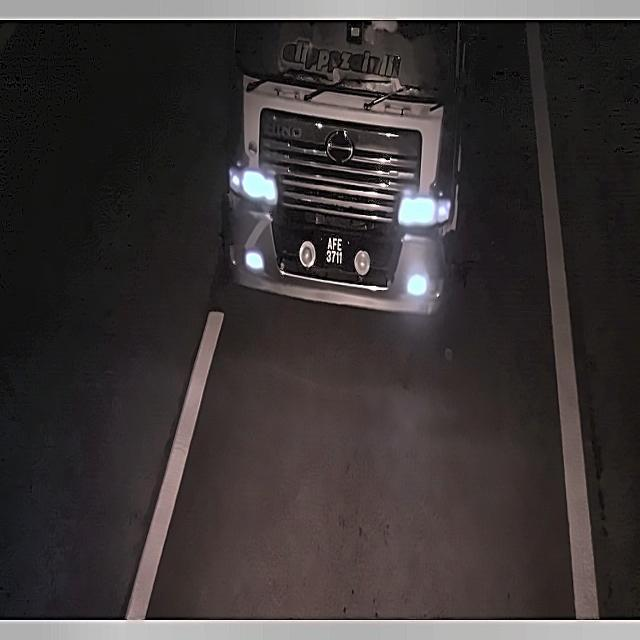car: (315, 230, 350, 272)
